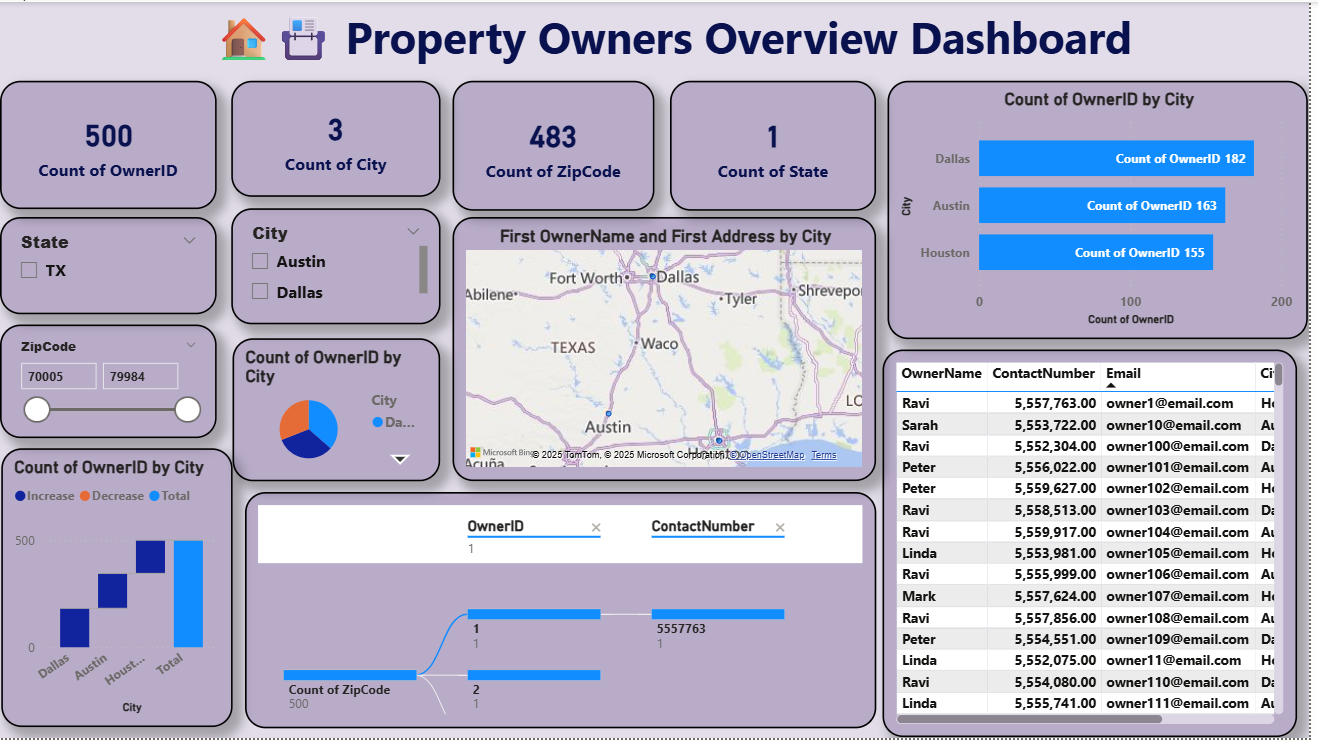

The page's visual inventory and layout, read from the dashboard file:
{"tool":"powerbi","page":{"name":"Page 8","canvas":[1280,720],"ordinal":7},"visuals":[{"type":"card","fields":{"Values":["Count(Owners.ZipCode)"]},"box":[442.9,76.5,197.7,127],"z":0},{"type":"card","fields":{"Values":["Count(Owners.City)"]},"box":[226.5,76.5,204.9,114],"z":1},{"type":"card","fields":{"Values":["Count(Owners.State)"]},"box":[655,76.5,202,127],"z":2},{"type":"card","fields":{"Values":["CountNonNull(Owners.OwnerID)"]},"box":[0,76.5,212.1,125.5],"z":3},{"type":"barChart","fields":{"Category":["Owners.City"],"Y":["CountNonNull(Owners.OwnerID)"]},"box":[868.5,76.5,411.2,252.5],"z":5},{"type":"textbox","box":[171.7,0,973.9,76.5],"z":9},{"type":"slicer","fields":{"Values":["Owners.State"]},"box":[0,210.6,212.1,95.2],"z":10},{"type":"slicer","fields":{"Values":["Owners.City"]},"box":[226.5,202,204.9,114],"z":11},{"type":"slicer","fields":{"Values":["Owners.ZipCode"]},"box":[0,316,212.1,111.1],"z":12},{"type":"map","fields":{"Category":["Owners.City"]},"box":[442.9,210.6,414.1,258.3],"z":13},{"type":"tableEx","fields":{"Values":["Owners.OwnerName","Owners.ContactNumber","Owners.Email","Owners.City","Owners.State","Owners.ZipCode"]},"box":[862.8,340.5,405.4,379.4],"z":14},{"type":"waterfallChart","fields":{"Category":["Owners.City"],"Y":["CountNonNull(Owners.OwnerID)"]},"box":[1.4,437.2,226.5,272.7],"z":15},{"type":"decompositionTreeVisual","fields":{"Analyze":["CountNonNull(Owners.ZipCode)"],"ExplainBy":["Owners.OwnerID","Owners.ContactNumber"]},"box":[239.5,479,617.5,230.8],"z":16},{"type":"pieChart","fields":{"Category":["Owners.City"],"Y":["CountNonNull(Owners.OwnerID)"]},"box":[228,328.9,203.4,139.9],"z":17}]}

Visuals, with their boxes in screenshot pixels (x1, y1, x2, y2), scaled from the page's 1280x720 canvas onto the 1318x742 screenshot:
card - Count(Owners.ZipCode): x1=456, y1=79, x2=660, y2=210
card - Count(Owners.City): x1=233, y1=79, x2=444, y2=196
card - Count(Owners.State): x1=674, y1=79, x2=882, y2=210
card - CountNonNull(Owners.OwnerID): x1=0, y1=79, x2=218, y2=208
barChart - Owners.City x CountNonNull(Owners.OwnerID): x1=894, y1=79, x2=1317, y2=339
textbox: x1=177, y1=0, x2=1180, y2=79
slicer - Owners.State: x1=0, y1=217, x2=218, y2=315
slicer - Owners.City: x1=233, y1=208, x2=444, y2=326
slicer - Owners.ZipCode: x1=0, y1=326, x2=218, y2=440
map - Owners.City: x1=456, y1=217, x2=882, y2=483
tableEx - Owners.OwnerName x Owners.ContactNumber: x1=888, y1=351, x2=1306, y2=741
waterfallChart - Owners.City x CountNonNull(Owners.OwnerID): x1=1, y1=451, x2=235, y2=732
decompositionTreeVisual - CountNonNull(Owners.ZipCode) x Owners.OwnerID: x1=247, y1=494, x2=882, y2=731
pieChart - Owners.City x CountNonNull(Owners.OwnerID): x1=235, y1=339, x2=444, y2=483
